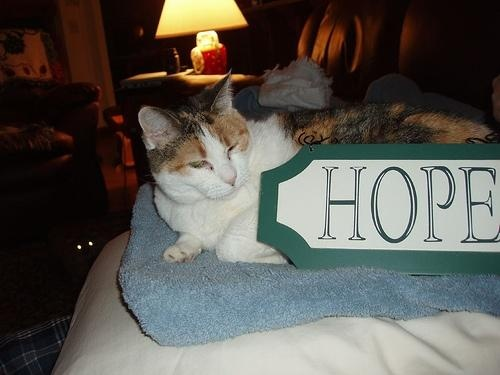cat: (139, 71, 499, 266)
chair: (1, 27, 111, 220)
